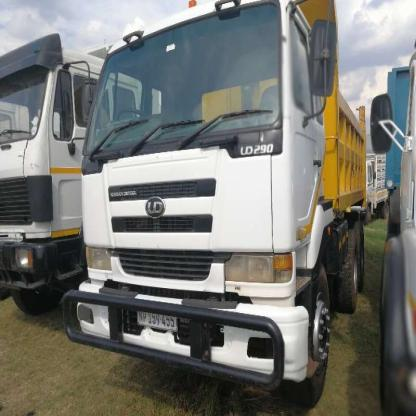dump_truck: (72, 4, 384, 410)
